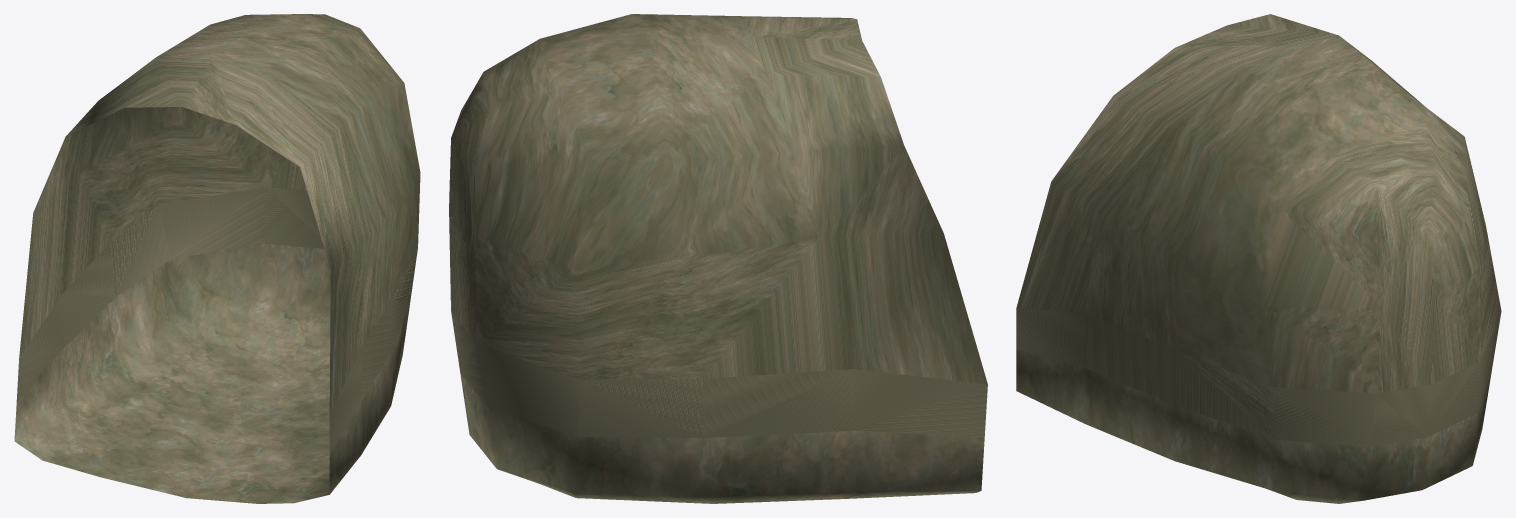
File: OVERHILL_A_01_WOLF_CAVE_01.fbx
3 renders of one model, left to right at view 1: azimuth 30°, elevation 25°; view 2: azimuth 150°, elevation 25°; view 3: azimuth 270°, elevation 25°, orthographic. The views are drawn at different scales.
Parts seen in each view (by area): view 1: OVERHILL_A_01_WOLF_CAVE_01; view 2: OVERHILL_A_01_WOLF_CAVE_01; view 3: OVERHILL_A_01_WOLF_CAVE_01.
Boxes of the visible parts, bbox=[...] form: OVERHILL_A_01_WOLF_CAVE_01: bbox=[14, 14, 420, 503]; OVERHILL_A_01_WOLF_CAVE_01: bbox=[449, 14, 987, 503]; OVERHILL_A_01_WOLF_CAVE_01: bbox=[1016, 14, 1501, 503].
Size of the model in its own units: 33430 by 28668 by 33002.
Materials: 1 (1 with a texture image).
